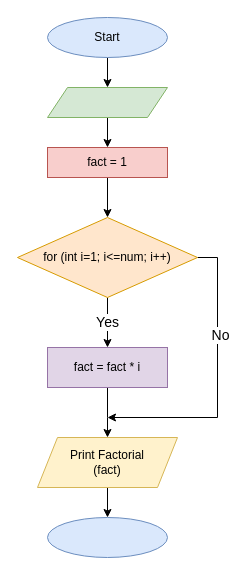
The diagram is 246 pixels wide and 575 high, and some of its shapes have lost their labels. Each missing label, with the centre of its shape:
"End" goes at [107,537].
"Input num" goes at [107,102].
